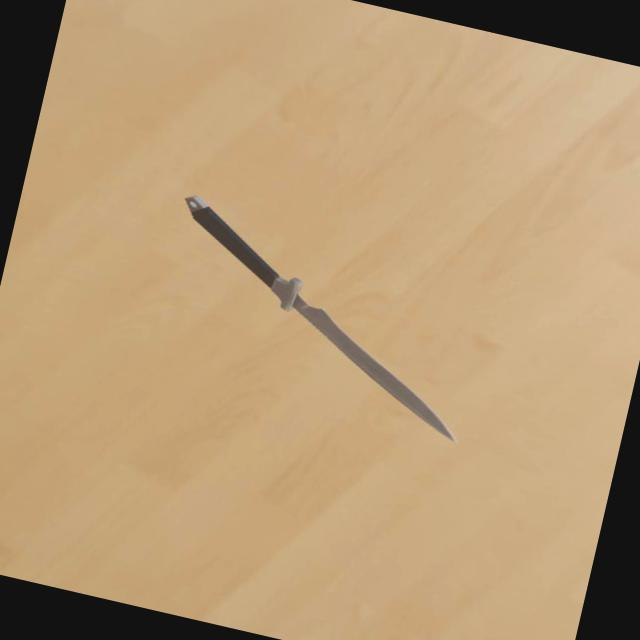knife: (170, 193, 292, 288)
